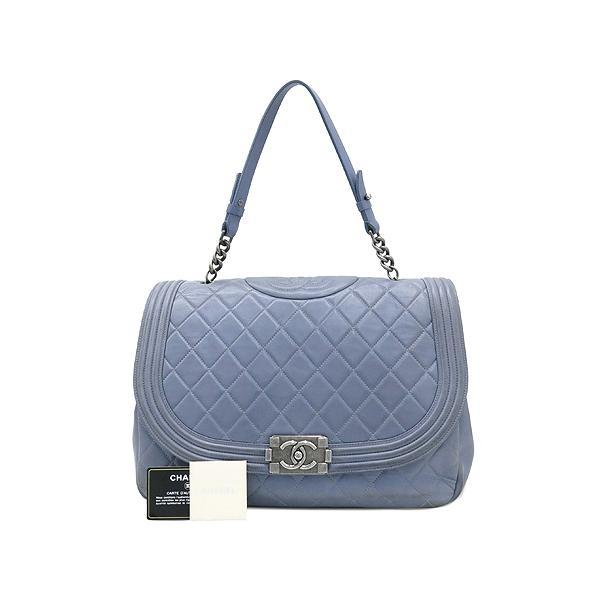channel: (81, 221, 490, 496), (268, 432, 337, 476)
